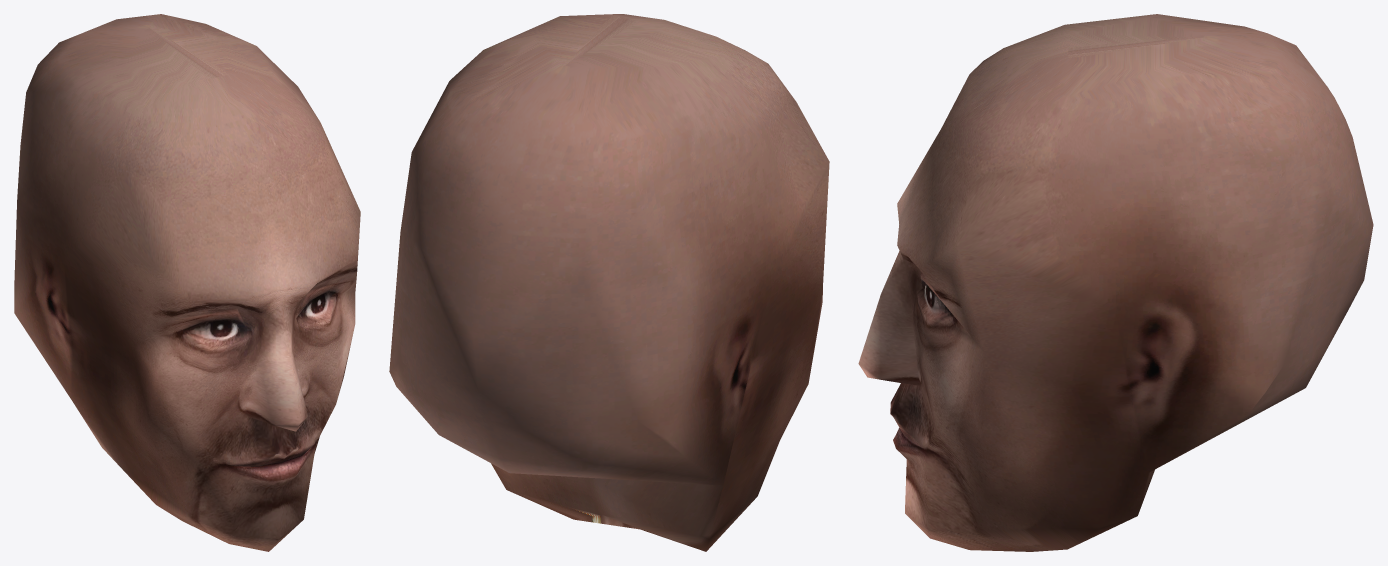
The model's file is b_n_imperial_m_head_05.glb.
3 views of the same model, side by side, from view 1: azimuth 30°, elevation 25°; view 2: azimuth 150°, elevation 25°; view 3: azimuth 270°, elevation 25° (orthographic). The views are drawn at different scales.
Parts seen in each view (by area): view 1: Tri B_N_Imperial_M_Head_05; view 2: Tri B_N_Imperial_M_Head_05; view 3: Tri B_N_Imperial_M_Head_05.
Boxes of the visible parts, x1,y1,x2,y2 form: Tri B_N_Imperial_M_Head_05: [14, 14, 360, 551]; Tri B_N_Imperial_M_Head_05: [389, 14, 829, 551]; Tri B_N_Imperial_M_Head_05: [858, 14, 1373, 551].
Size of the model in its own units: 0.097 by 0.1597 by 0.1487.
Materials: 1 (1 with a texture image).
